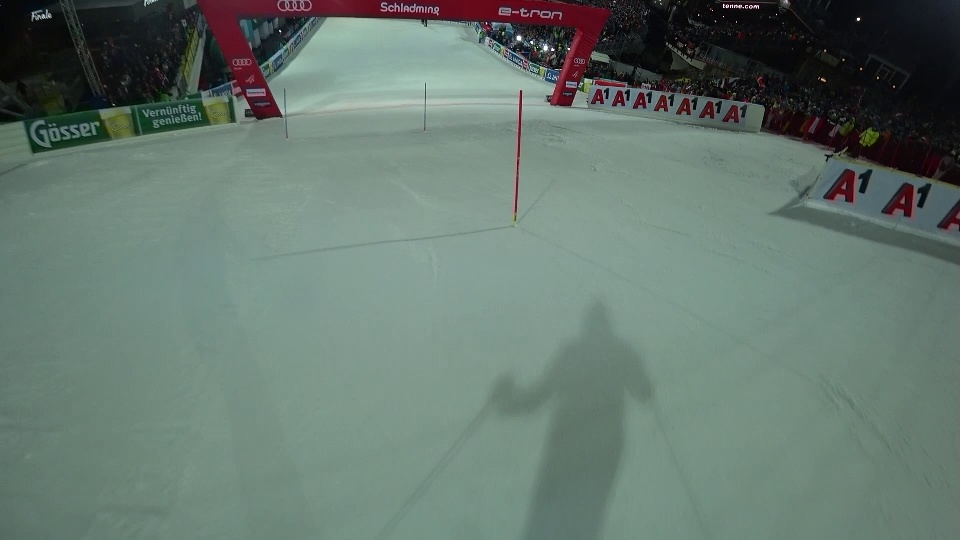a1: (882, 181, 932, 221), (824, 166, 872, 206), (722, 102, 751, 128), (699, 100, 725, 124), (589, 85, 613, 109), (653, 92, 677, 114), (676, 97, 699, 118), (634, 88, 651, 112), (616, 88, 631, 109)
audi: (274, 1, 316, 17), (230, 55, 256, 71)
etron: (500, 6, 567, 24)
goesser: (32, 111, 123, 152)
schladming: (378, 1, 446, 20)
